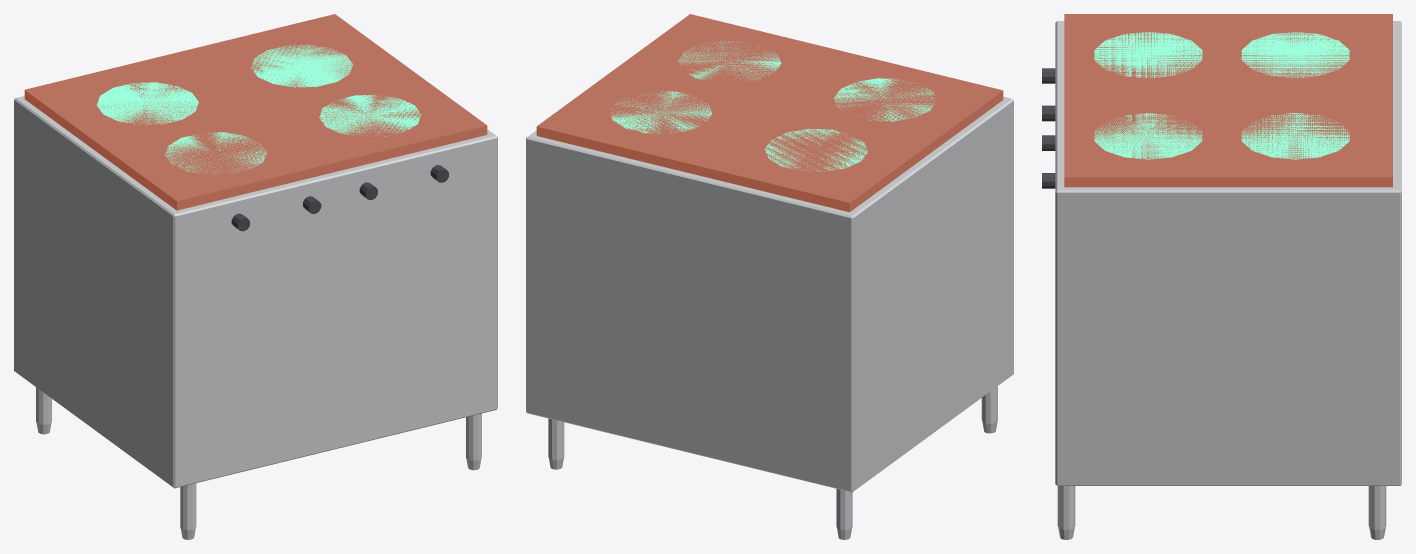
The model's file is NSF-INDUCTION-SUITE-4Z.glb.
3 renders of one model, left to right at view 1: azimuth 30°, elevation 25°; view 2: azimuth 150°, elevation 25°; view 3: azimuth 270°, elevation 25°, orthographic. The views are drawn at different scales.
Visible parts, largest first — view 1: asset_nsf_induction_suite_4z; view 2: asset_nsf_induction_suite_4z; view 3: asset_nsf_induction_suite_4z.
Part boxes in pixels (x1,y1,x2,y2): asset_nsf_induction_suite_4z: (14,14,497,539); asset_nsf_induction_suite_4z: (526,14,1013,539); asset_nsf_induction_suite_4z: (1042,14,1401,539).
Size of the model in its own units: 0.914 by 0.914 by 0.813.
